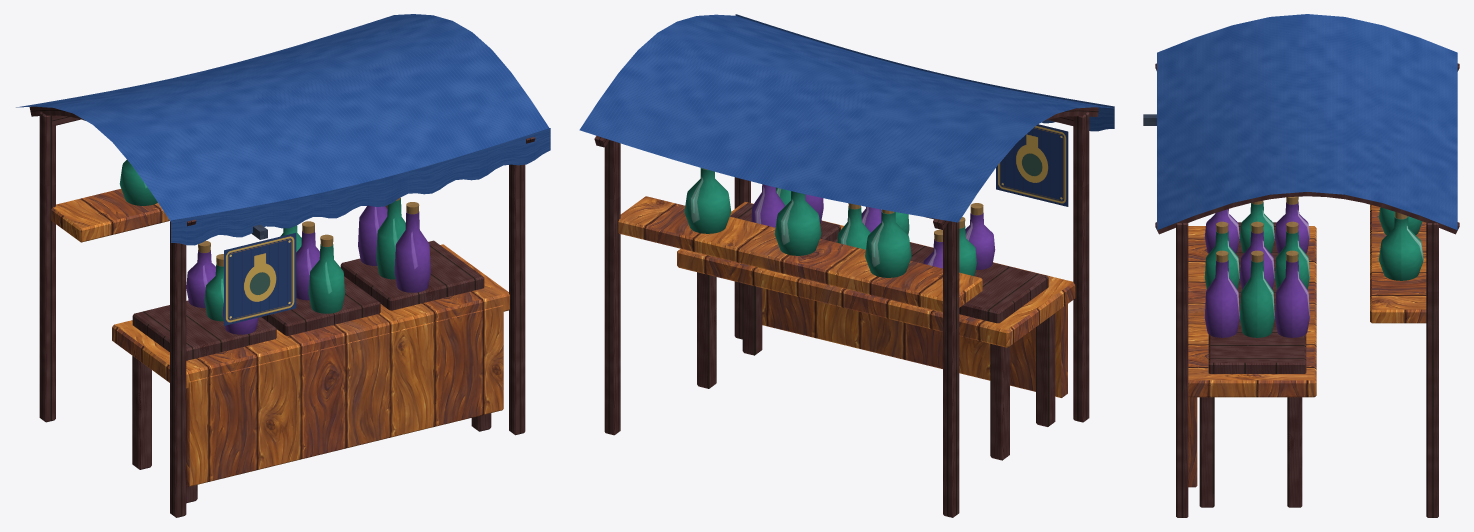
File: Potion_Stall.fbx
The picture shows the model from 3 angles, left to right: view 1: azimuth 30°, elevation 25°; view 2: azimuth 150°, elevation 25°; view 3: azimuth 270°, elevation 25°; orthographic projection. The views are drawn at different scales.
Parts seen in each view (by area): view 1: Draped stitched awning.006, Counter front.006, Scalloped canvas hem.006, Counter top.006, Painted shop sign.006, Canopy post.025, Canopy post.024, Canopy post.026, Display tray.020, Apothecary rear bottle shelf, Display tray.018, Display tray.019 (+9 smaller); view 2: Draped stitched awning.006, Apothecary rear bottle shelf, Counter front.006, Counter top.006, Canopy post.024, Canopy post.025, Canopy post.027, Painted shop sign.006, Display tray.018, Counter leg.025, Counter leg.027, Glass reagent flask (+11 smaller); view 3: Draped stitched awning.006, Counter top.006, Display tray.020, Canopy post.026, Canopy post.027, Apothecary rear bottle shelf, Glass reagent flask.002, Glass medicine bottle.002, Glass medicine bottle.005, Glass medicine bottle.008, Counter leg.026, Counter leg.027 (+8 smaller).
Boxes of the visible parts, x1,y1,x2,y2 form: Draped stitched awning.006: (16,14,549,221); Counter front.006: (186,305,503,486); Scalloped canvas hem.006: (171,128,550,245); Counter top.006: (112,244,509,388); Painted shop sign.006: (224,233,296,325); Canopy post.025: (39,111,55,422); Canopy post.024: (170,221,186,517); Canopy post.026: (509,164,525,435); Display tray.020: (340,240,484,310); Apothecary rear bottle shelf: (51,189,169,242); Display tray.018: (132,300,276,360); Display tray.019: (261,276,380,335); Draped stitched awning.006: (579,14,1113,222); Apothecary rear bottle shelf: (618,196,982,312); Counter front.006: (762,288,1067,397); Counter top.006: (677,202,1075,347); Canopy post.024: (1073,112,1089,422); Canopy post.025: (943,221,959,517); Canopy post.027: (604,140,620,435); Painted shop sign.006: (996,124,1068,206); Display tray.018: (959,262,1048,323); Counter leg.025: (990,344,1009,460); Counter leg.027: (697,272,716,388); Glass reagent flask: (865,210,911,277); Draped stitched awning.006: (1157,14,1457,230); Counter top.006: (1188,226,1316,397); Display tray.020: (1208,319,1306,373); Canopy post.026: (1176,223,1188,517); Canopy post.027: (1426,223,1438,517); Apothecary rear bottle shelf: (1370,204,1426,323); Glass reagent flask.002: (1379,216,1423,280); Glass medicine bottle.002: (1204,259,1239,337); Glass medicine bottle.005: (1240,260,1274,337); Glass medicine bottle.008: (1275,259,1309,337); Counter leg.026: (1199,397,1214,507); Counter leg.027: (1287,397,1302,507).
Bounding box in the file's own units: 336 × 294 × 253.
